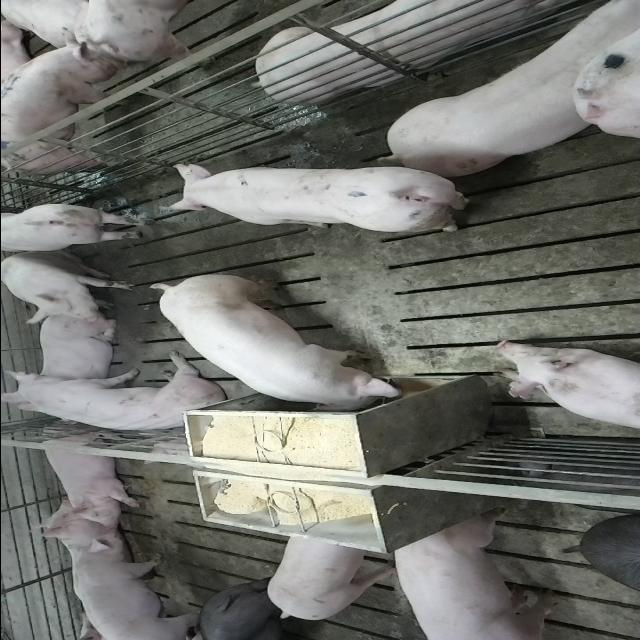Feeding: (147, 278, 406, 420)
Sitting: (4, 358, 232, 438), (0, 251, 136, 323)
Standing: (386, 512, 564, 639), (165, 162, 477, 234), (0, 45, 133, 179), (68, 528, 206, 638), (266, 532, 398, 620), (2, 201, 156, 255), (190, 584, 312, 640)
Sternal_lying: (250, 0, 572, 102), (491, 341, 640, 434), (31, 426, 140, 528), (31, 314, 122, 382)
